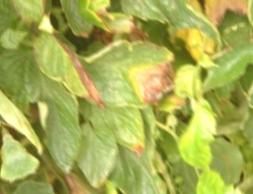Tomato mold leaf: (30, 0, 195, 147), (0, 27, 105, 183), (183, 25, 253, 99), (24, 161, 93, 194)
